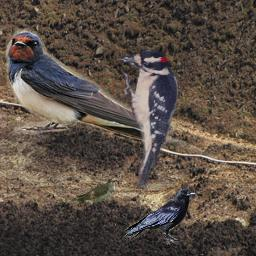Crow: (122, 187, 198, 245)
Cuckoo: (55, 178, 115, 205)
Swallow: (5, 28, 225, 160)
Woodpecker: (118, 47, 180, 189)
